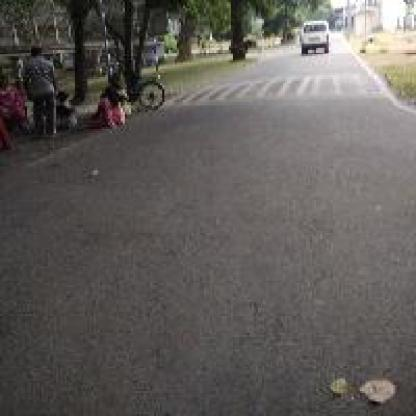Speed Bump: (185, 75, 389, 100)
